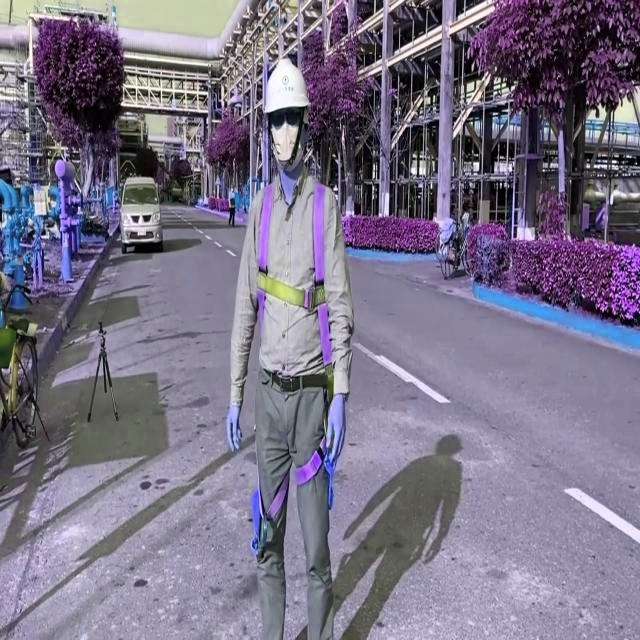safety belt: (238, 178, 352, 517)
